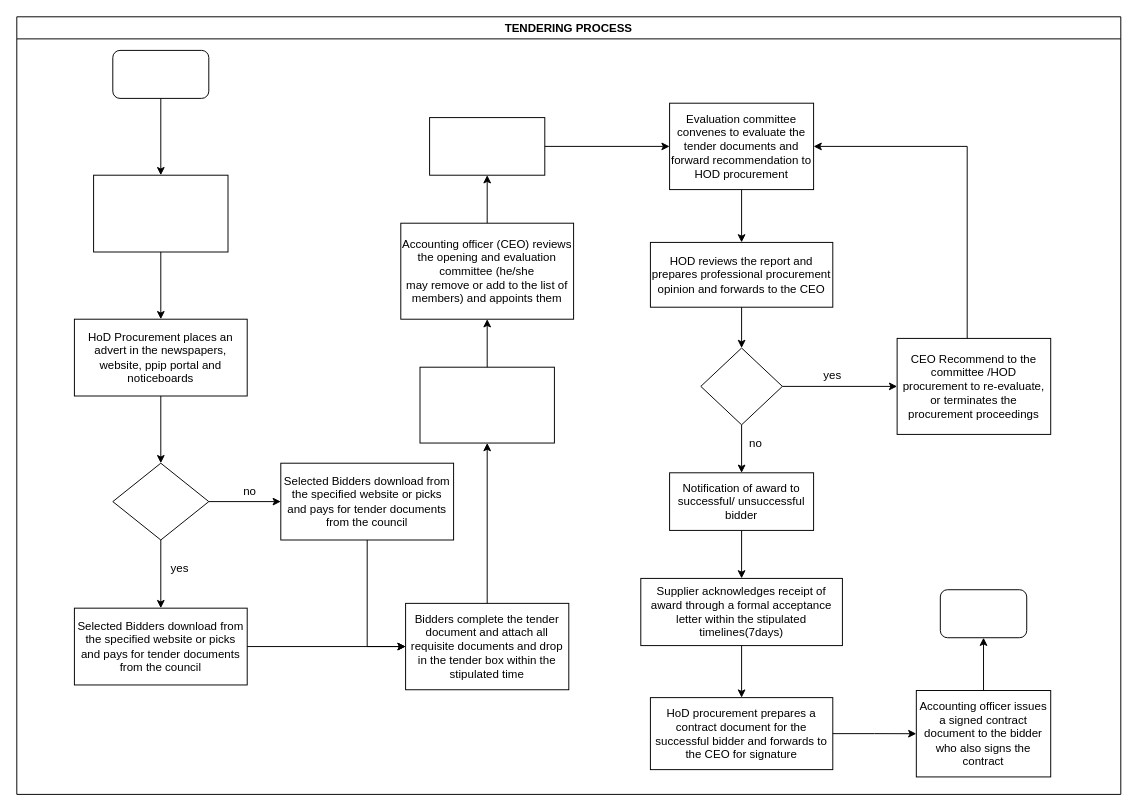
The diagram is 1138 pixels wide and 811 high, and some of its shapes have lost their labels. Each missing label, with the centre of its shape:
"CEO agrees?" belongs at [741,386].
"End" belongs at [983,613].
"HOD procurement recommends Opening and evaluation committee for appointment" belongs at [486,404].
"Opening committee convenes to open the tenders" belongs at [487,146].
"Preparation of tender document by HOD procurement or procurement Officer" belongs at [160,213].
"Restricted Tender?" belongs at [160,501].
"Start" belongs at [160,73].
